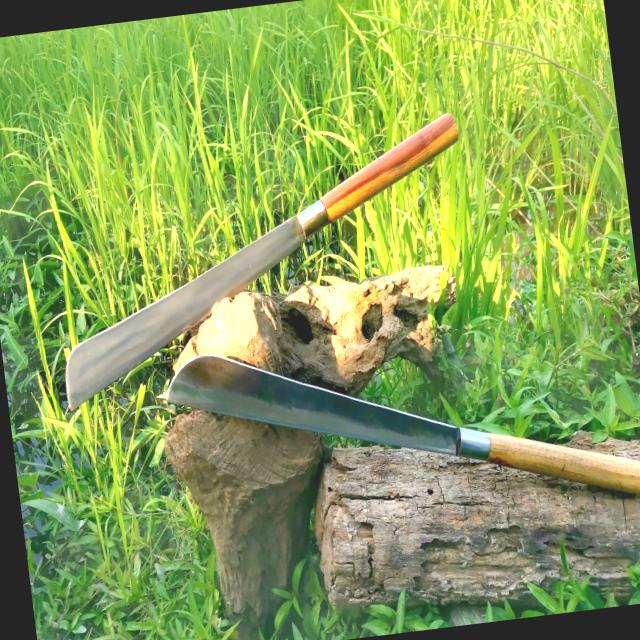eto: (59, 97, 470, 420), (152, 343, 640, 512)
